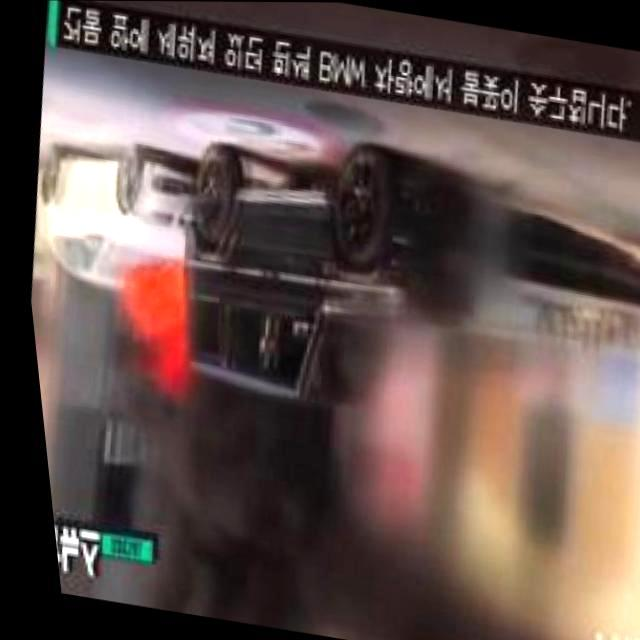fire: (118, 257, 186, 333)
